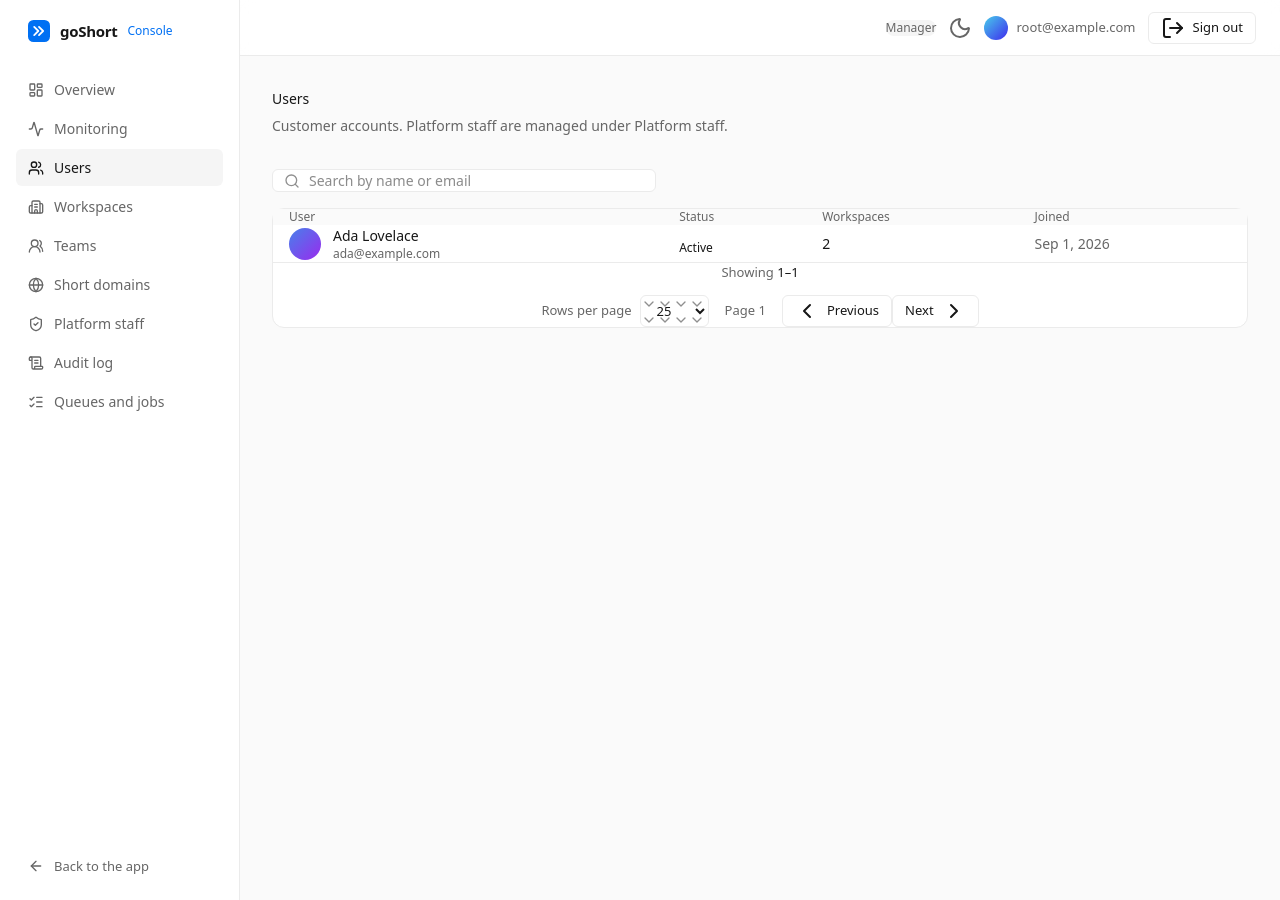
Test: users › a MANAGER can look but not change anything
What coordinates should you click on to do the following:
click the button with aria-label "Open ada@example.com"
I would click on:
 (365, 244)
Its box is [289,225,440,262].
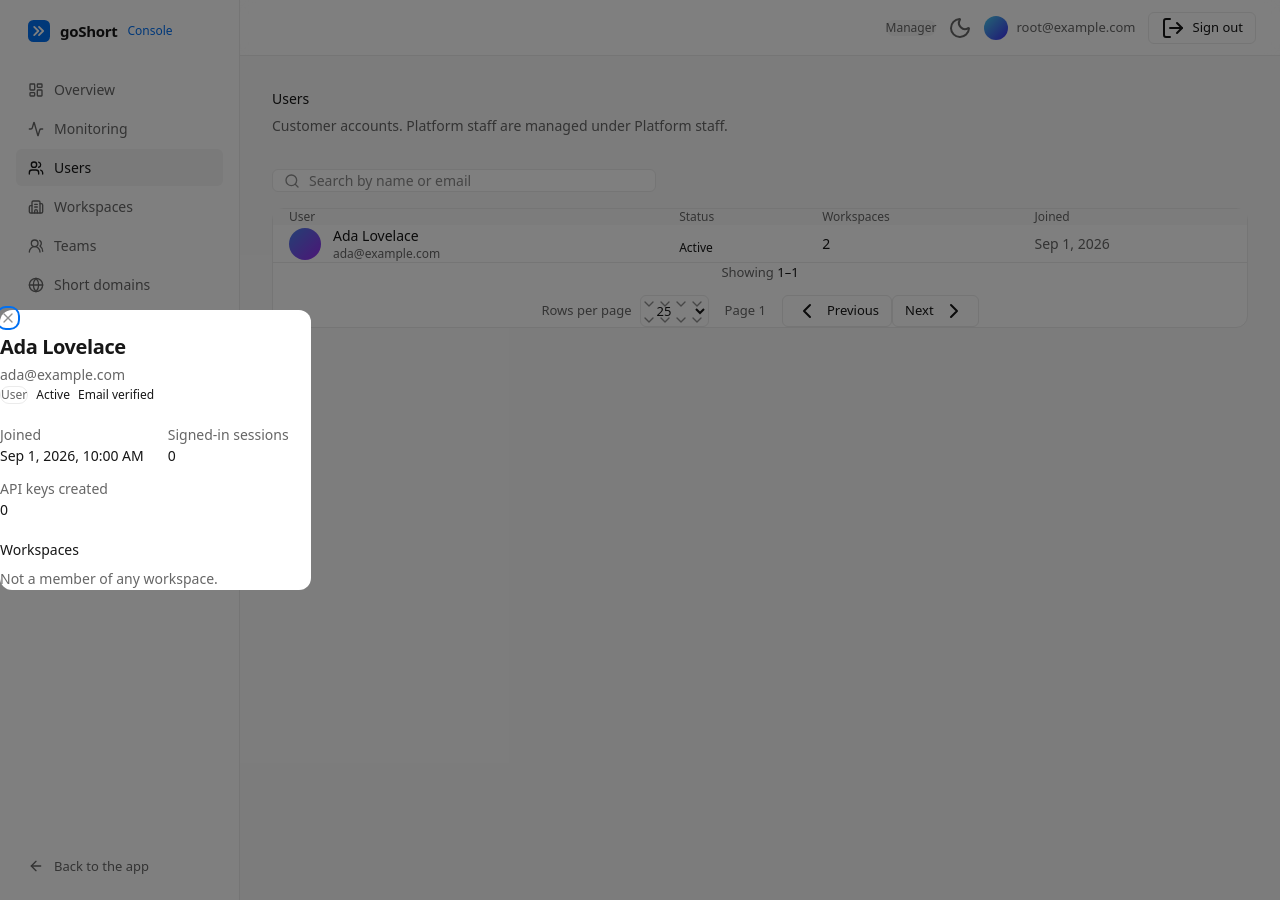
Expected: the text "Not a member of any workspace." is shown, [0,569,218,588]
